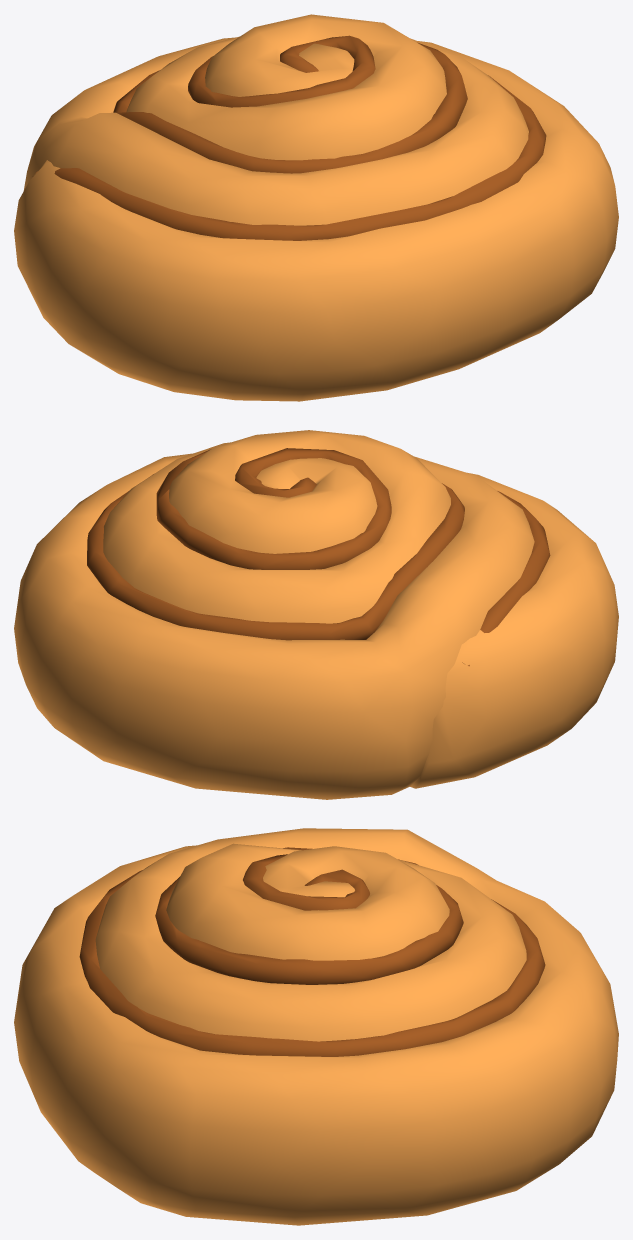
File: RollitoCanela.fbx
3 views of the same model, one above another, from view 1: azimuth 30°, elevation 25°; view 2: azimuth 150°, elevation 25°; view 3: azimuth 270°, elevation 25° (orthographic). The views are drawn at different scales.
Visible parts, largest first — view 1: BezierCurve; view 2: BezierCurve; view 3: BezierCurve.
Boxes of the visible parts, x1,y1,x2,y2 form: BezierCurve: [14, 14, 618, 401]; BezierCurve: [14, 430, 618, 799]; BezierCurve: [14, 828, 618, 1225].
Size of the model in its own units: 421 by 178 by 402.
